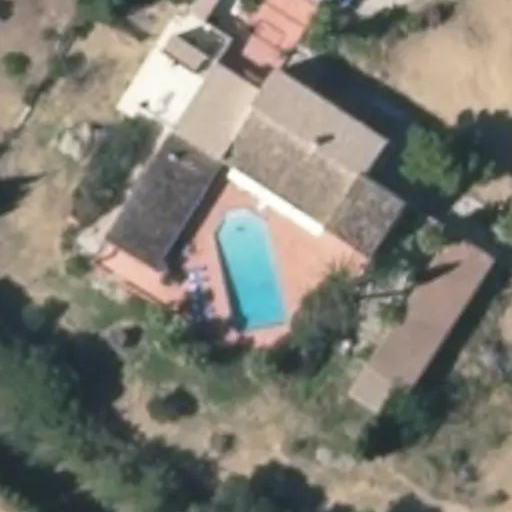pool: (216, 211, 290, 332)
